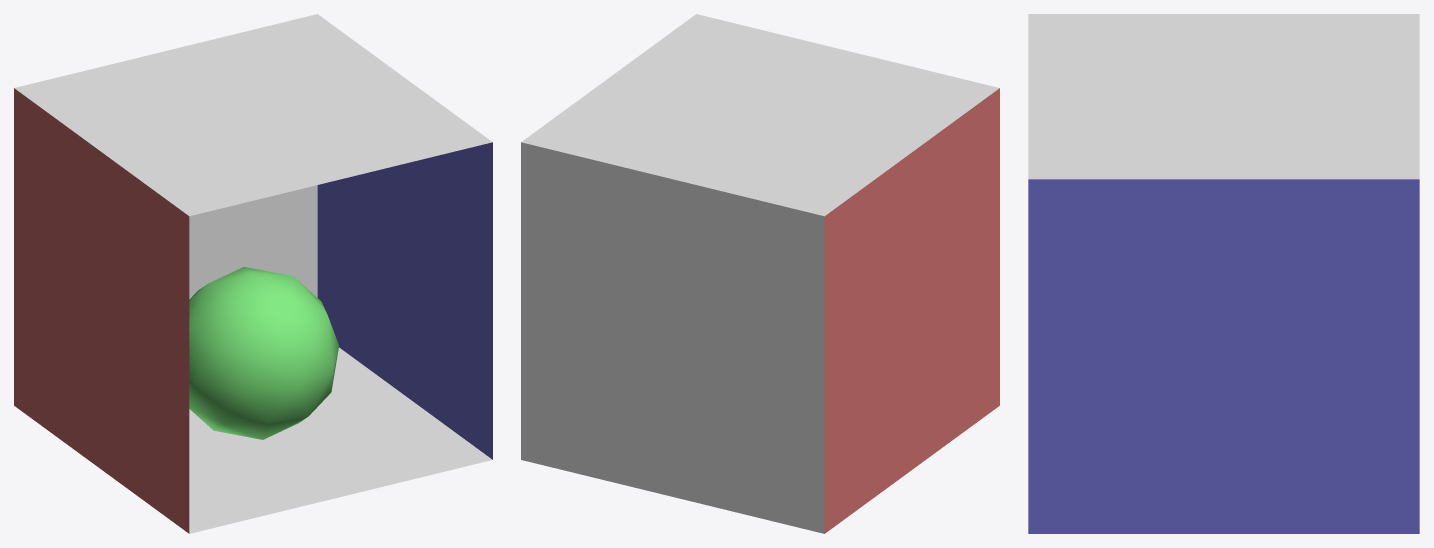
Rendered from sphere-metallic-lowpoly.gltf.
The picture shows the model from 3 angles, left to right: view 1: azimuth 30°, elevation 25°; view 2: azimuth 150°, elevation 25°; view 3: azimuth 270°, elevation 25°; orthographic projection. The views are drawn at different scales.
Parts seen in each view (by area): view 1: Plane.004, Plane.001, Plane.003, Plane, Icosphere, Plane.002; view 2: Plane.002, Plane.004, Plane.001; view 3: Plane.003, Plane.001.
Boxes of the visible parts, x1,y1,x2,y2 form: Plane.004: (14, 88, 189, 533); Plane.001: (14, 14, 492, 216); Plane.003: (317, 142, 492, 459); Plane: (189, 347, 492, 533); Icosphere: (189, 267, 338, 439); Plane.002: (189, 185, 317, 299); Plane.002: (521, 142, 824, 533); Plane.004: (824, 88, 999, 533); Plane.001: (521, 14, 999, 216); Plane.003: (1028, 179, 1419, 533); Plane.001: (1028, 14, 1419, 179).
Bounding box in the file's own units: 4 × 4 × 4.
